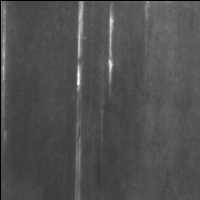scratches: (73, 1, 87, 95), (104, 2, 118, 93)
